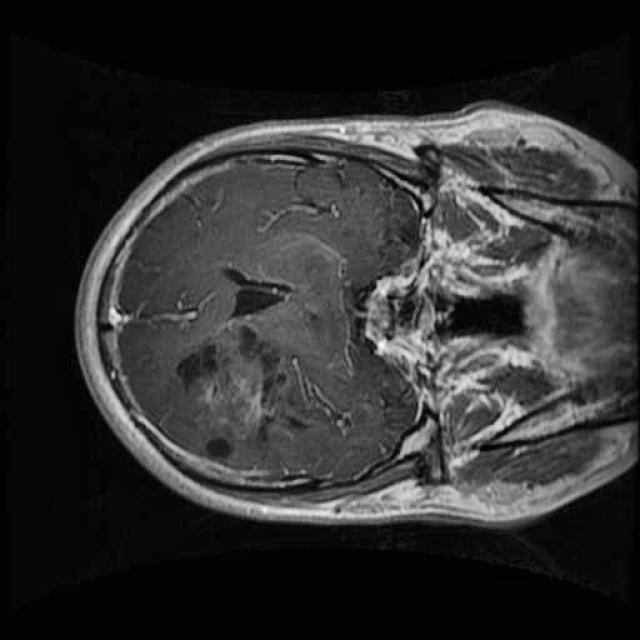Non-Tumor: (161, 308, 324, 474)
